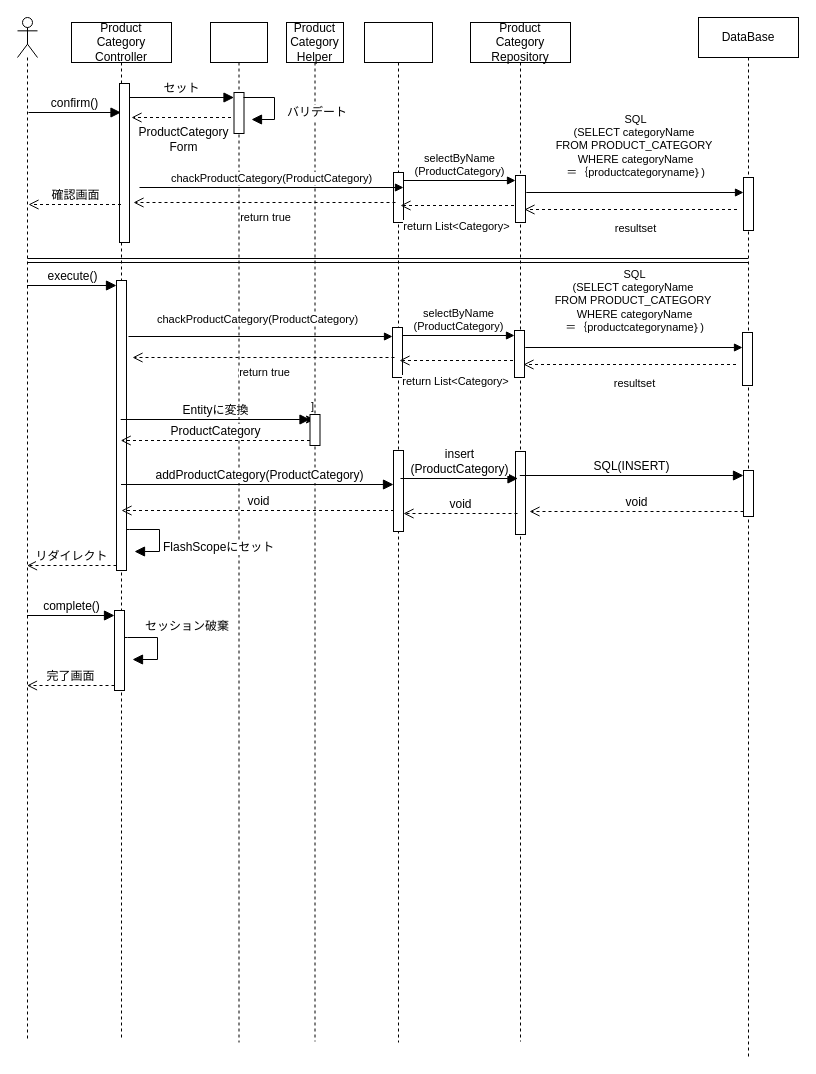
Image size: 816x1074. Some labels were removed from this diagram. The centre of each missing label's shape, as x and y in pixels:
"Product Category Form" goes at [239,532].
"Product Category Service" goes at [398,532].
